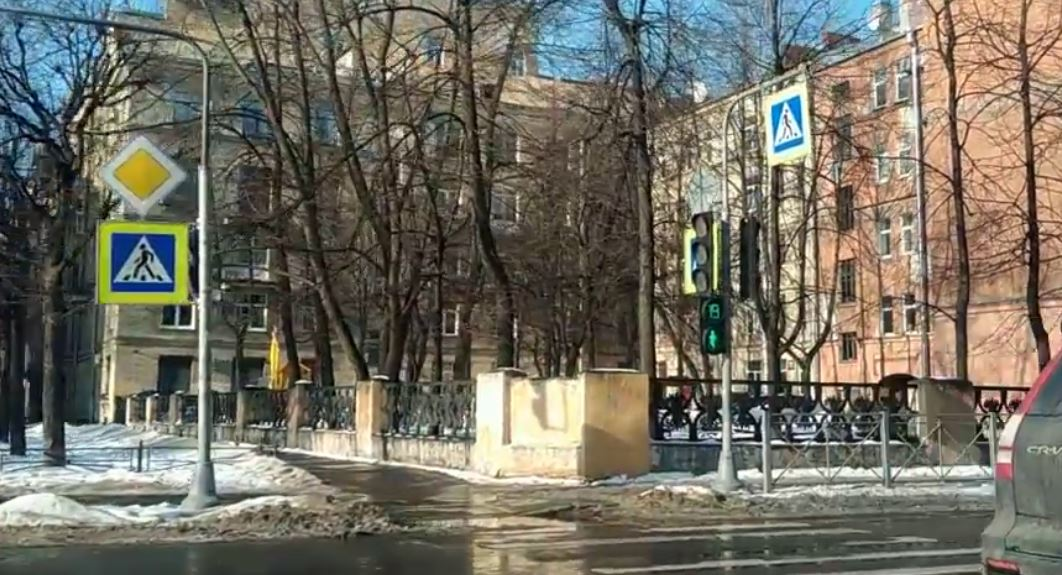Yaya Gecidi: (112, 232, 174, 295), (768, 99, 809, 152)
